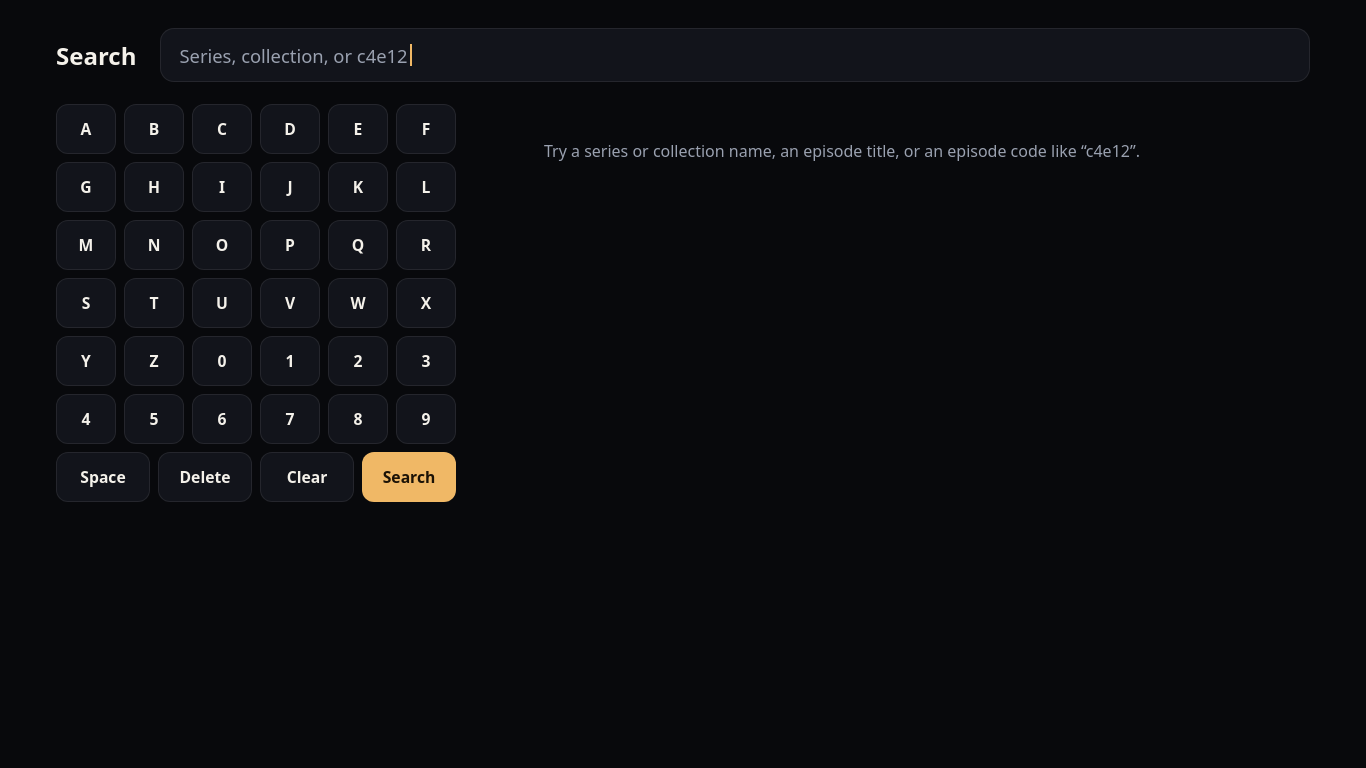
Test: Search › types with the on-screen keyboard and shows both result rows
Click the button "C" at (222, 129), box [192,104,252,154]
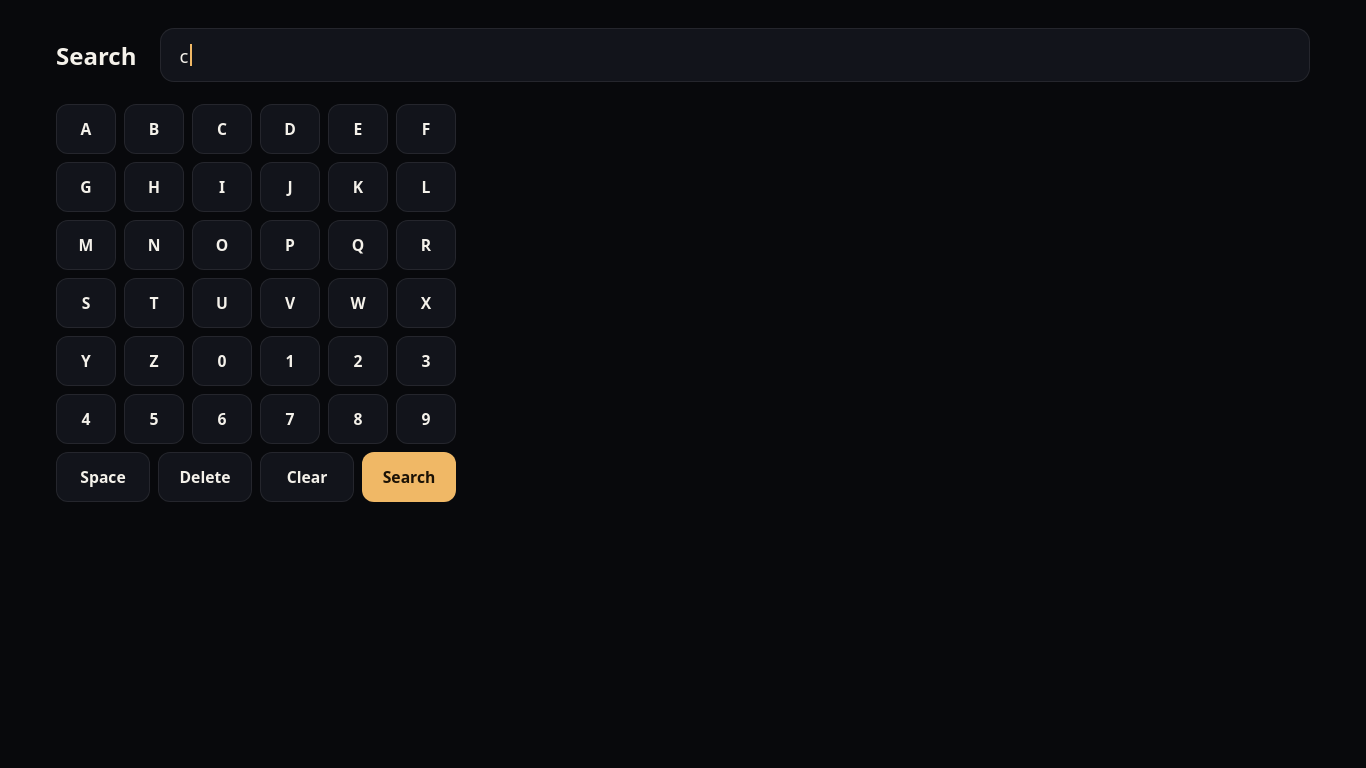
Click the button "A" at (86, 129), box [56,104,116,154]
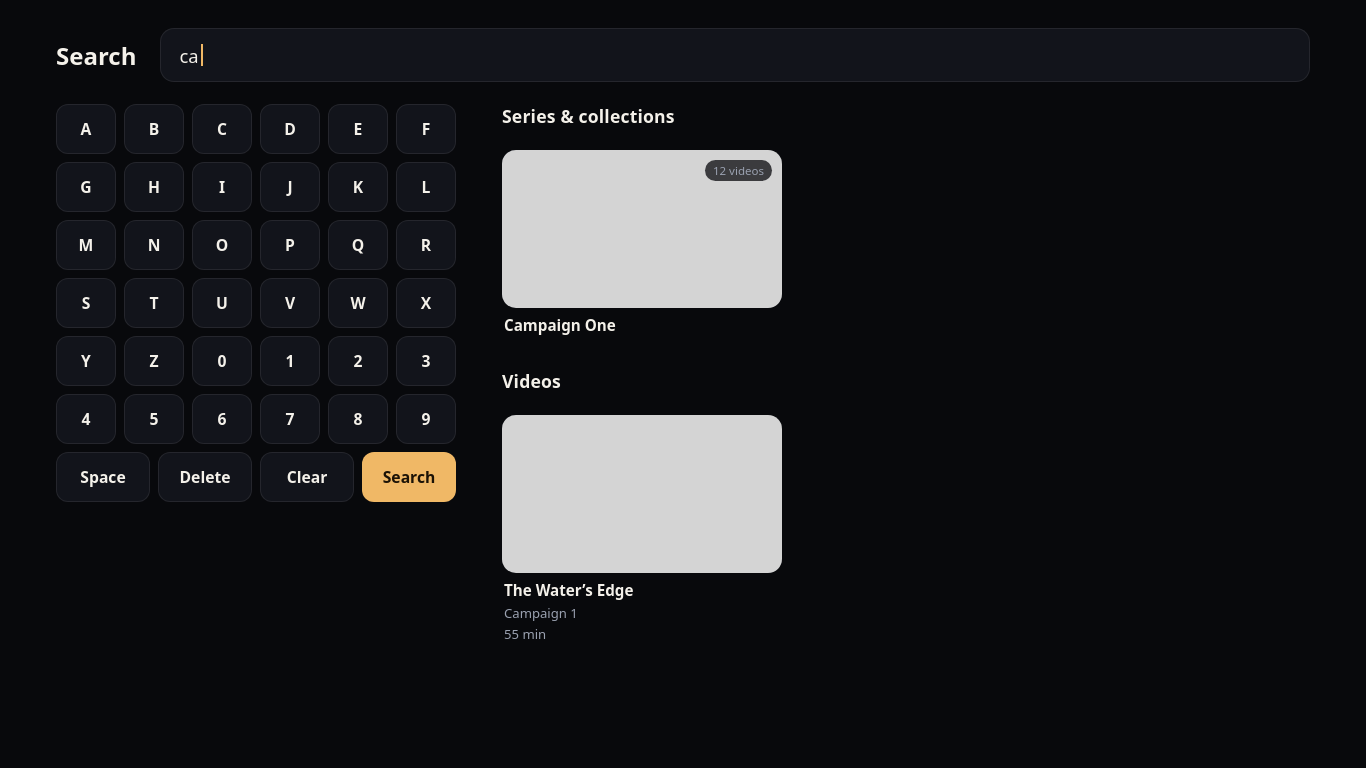
Now the text "Campaign One" is shown, box [504,316,616,335]
Now the text "The Water’s Edge" is shown, box [504,581,633,601]
Now the heading "Series & collections" is shown, box [502,104,675,128]
